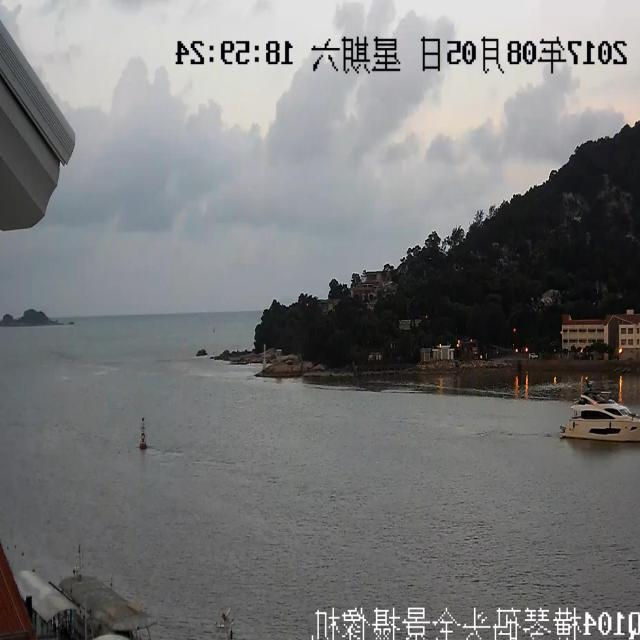buoy: (135, 416, 155, 452)
passenger ship: (556, 377, 640, 447)
reef: (0, 291, 68, 330)
